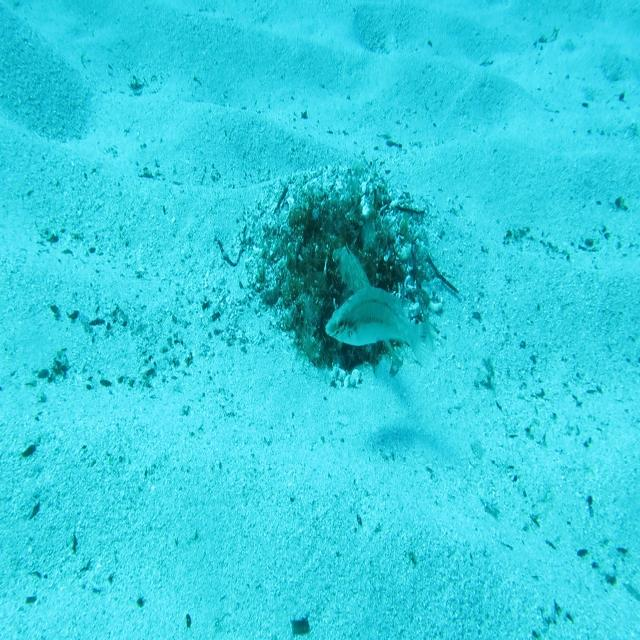ROLL: (331, 240, 405, 371)
core_nest: (315, 215, 362, 248)
female: (324, 283, 434, 376)
nest: (236, 146, 450, 400)
vegetation: (291, 616, 311, 634)
